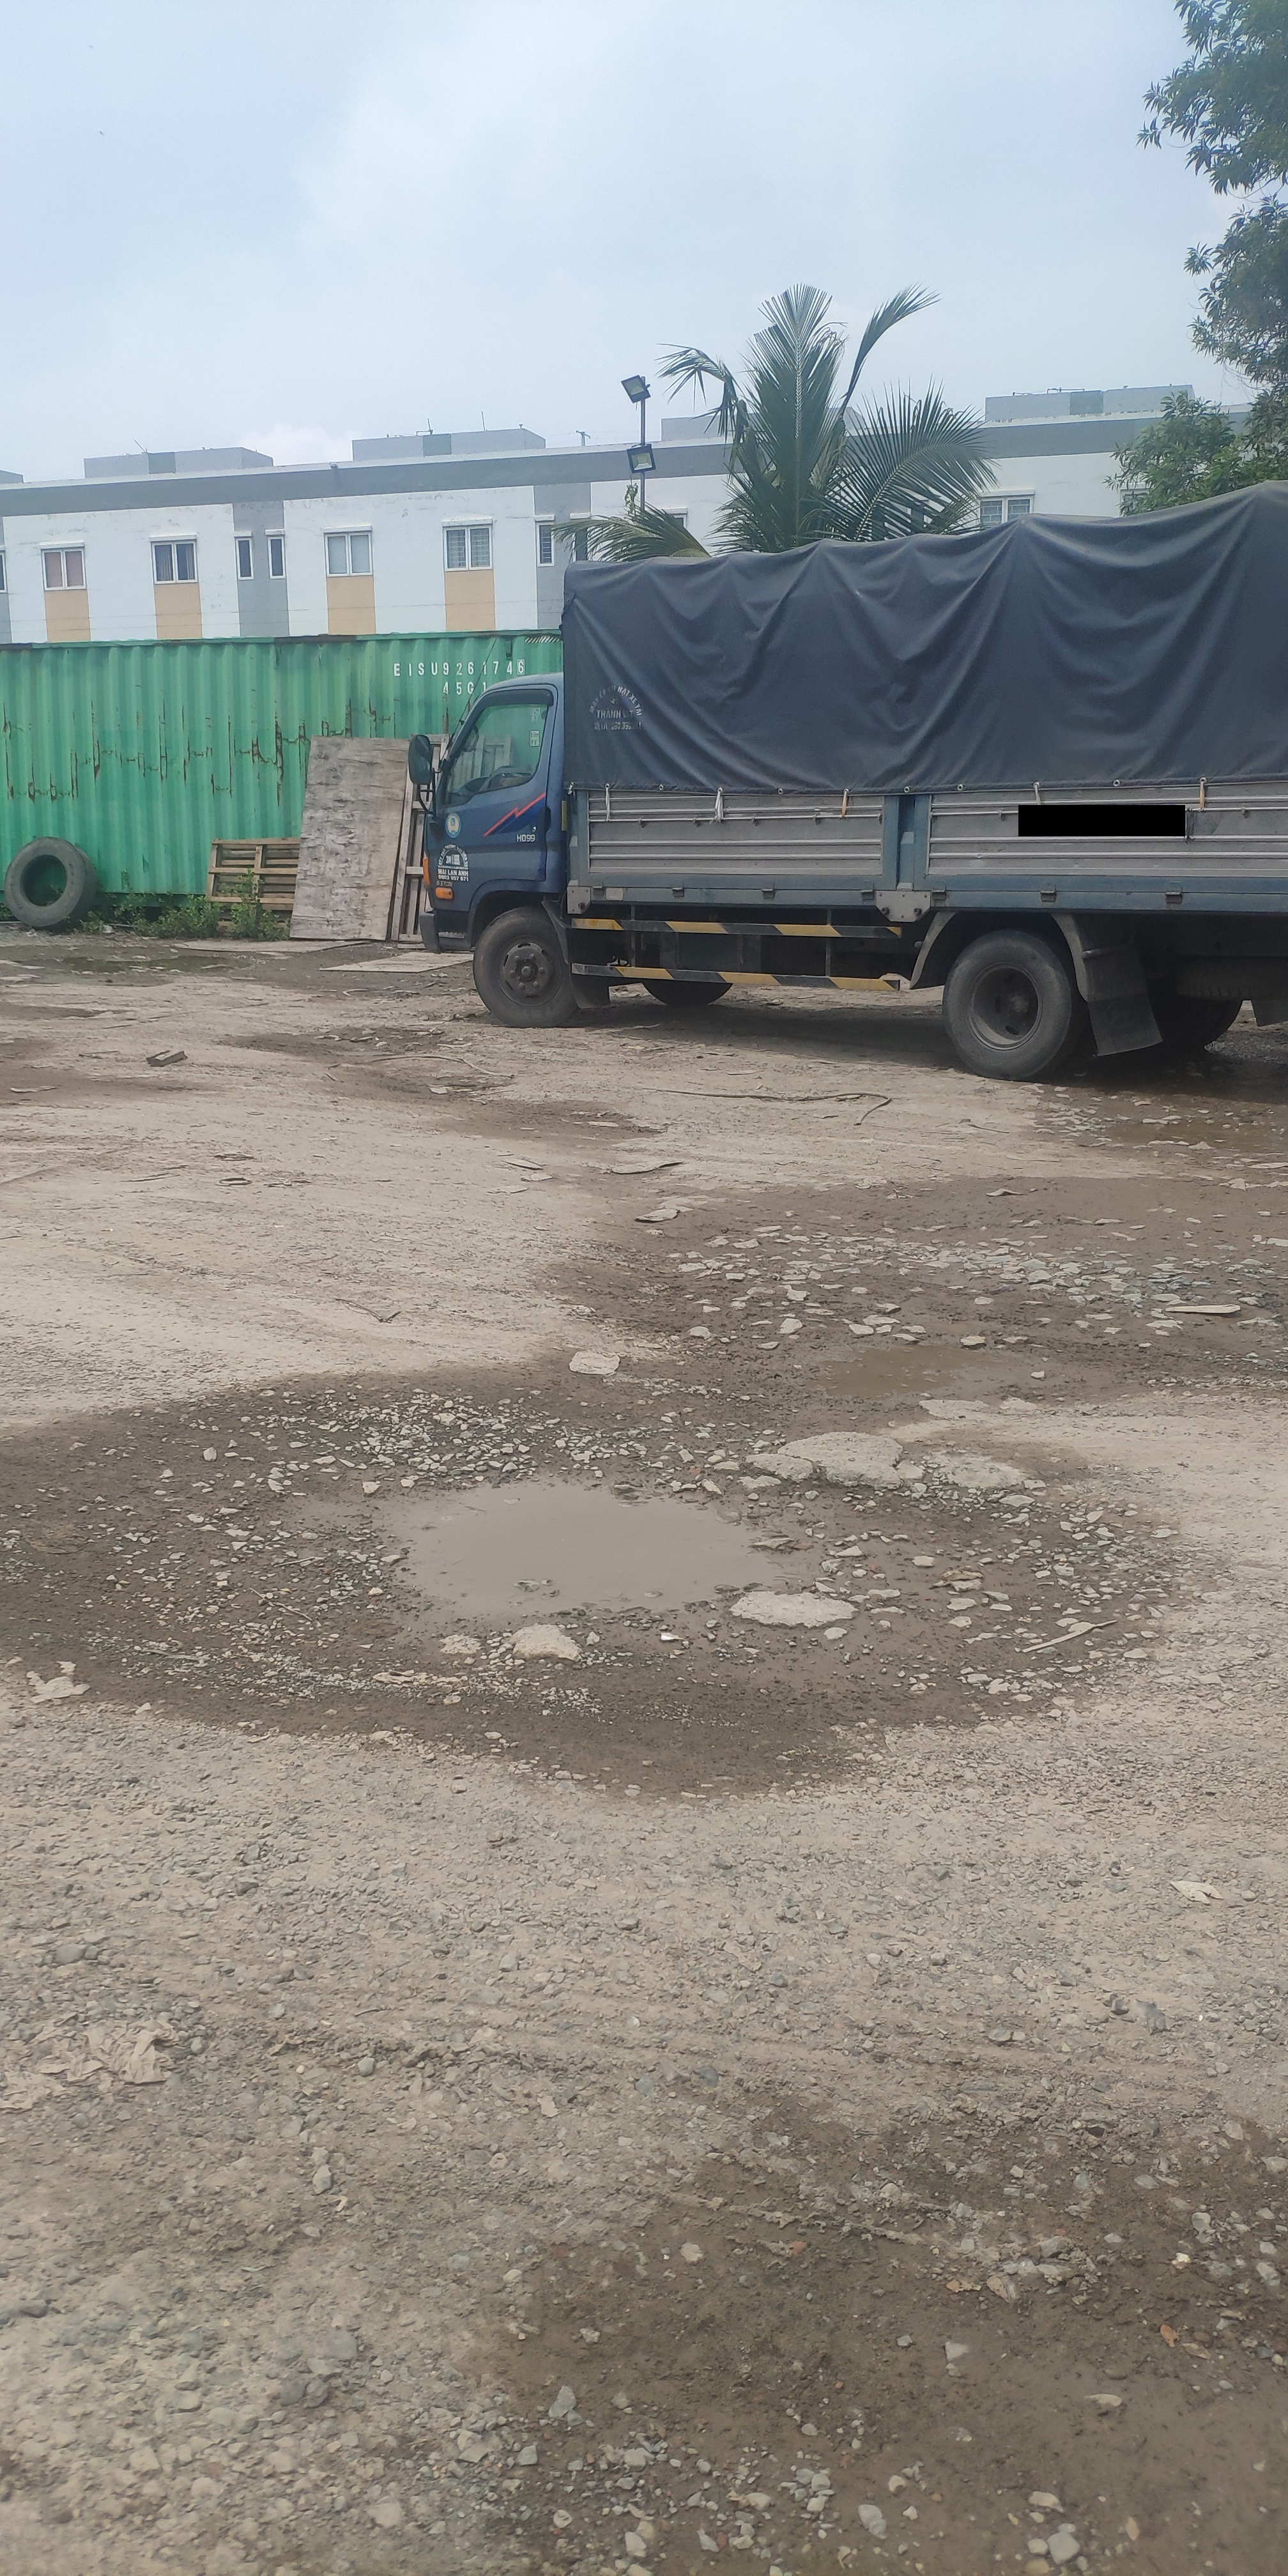hole: (823, 2236, 1285, 2573), (245, 1429, 871, 1663), (756, 1309, 1125, 1444), (1065, 1101, 1288, 1158), (235, 1020, 447, 1061), (0, 948, 258, 979)
